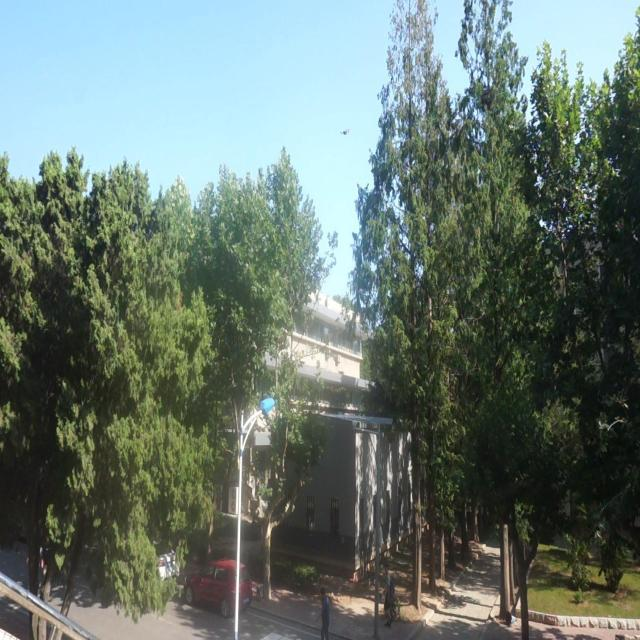drone: (338, 124, 352, 140)
